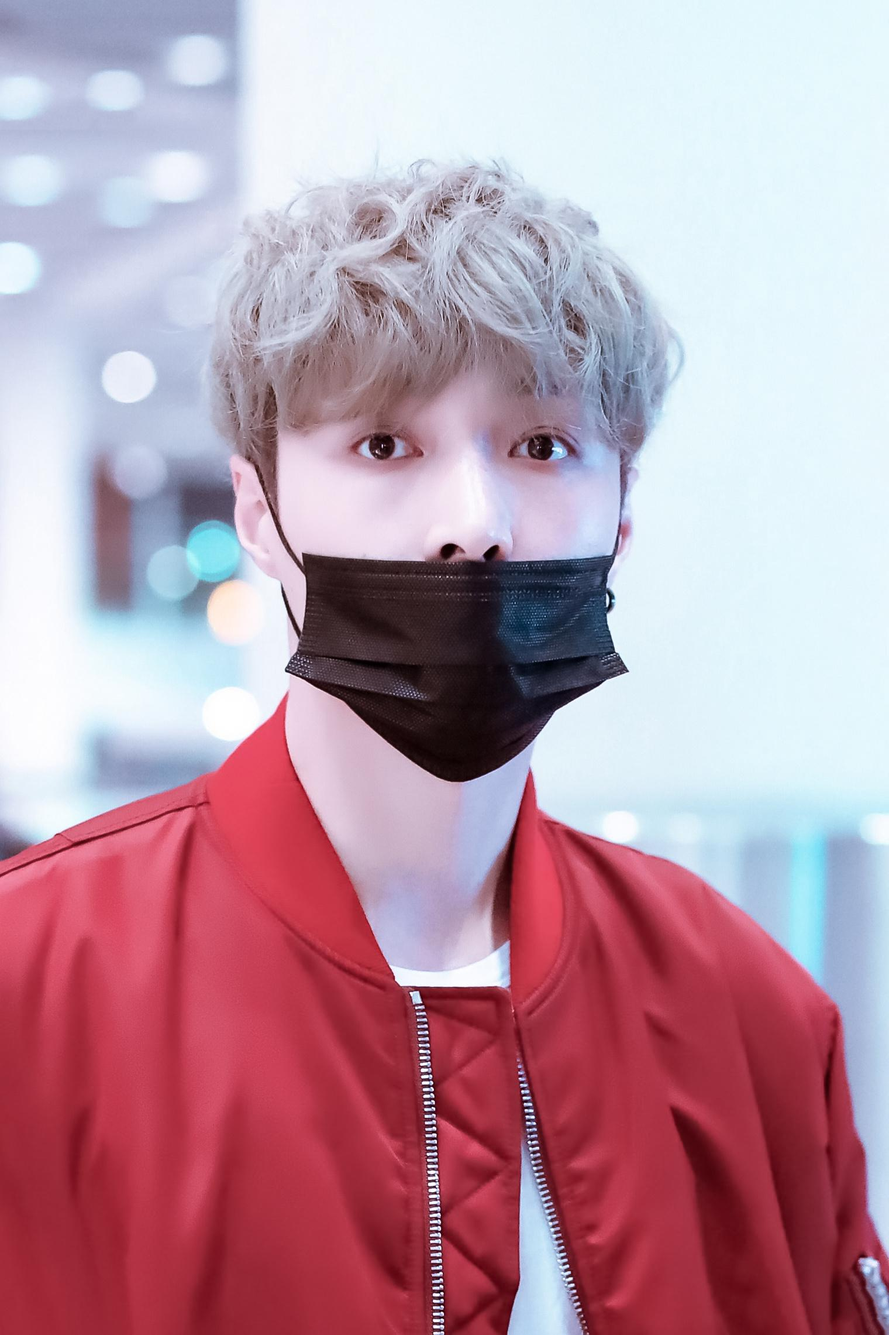WRONG: (284, 354, 623, 751)
